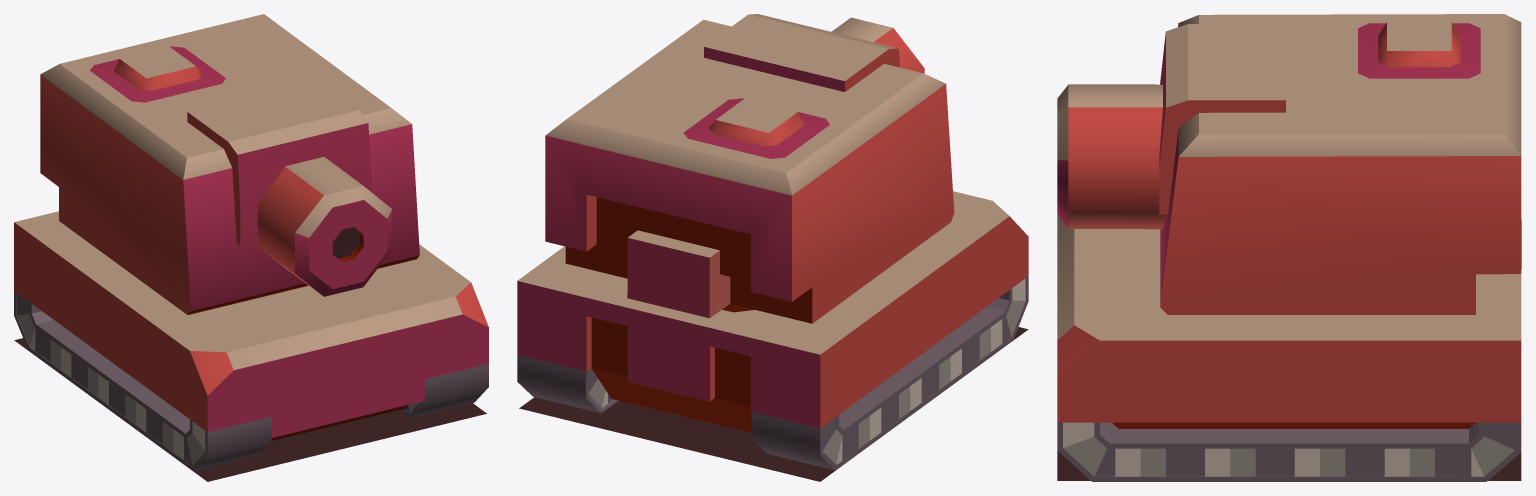
File: MediumTankMesh.RedFire.glb
3 renders of one model, left to right at view 1: azimuth 30°, elevation 25°; view 2: azimuth 150°, elevation 25°; view 3: azimuth 270°, elevation 25°, orthographic. The views are drawn at different scales.
Visible parts, largest first — view 1: MediumTankMesh.RedFire; view 2: MediumTankMesh.RedFire; view 3: MediumTankMesh.RedFire.
Part boxes in pixels (x1,y1,x2,y2): MediumTankMesh.RedFire: (14,14,488,481); MediumTankMesh.RedFire: (517,14,1028,481); MediumTankMesh.RedFire: (1057,14,1521,481).
Size of the model in its own units: 1.72 by 1.66 by 2.05.
1 material, 1 textured.
